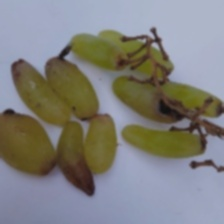grapes: (21, 15, 179, 190)
